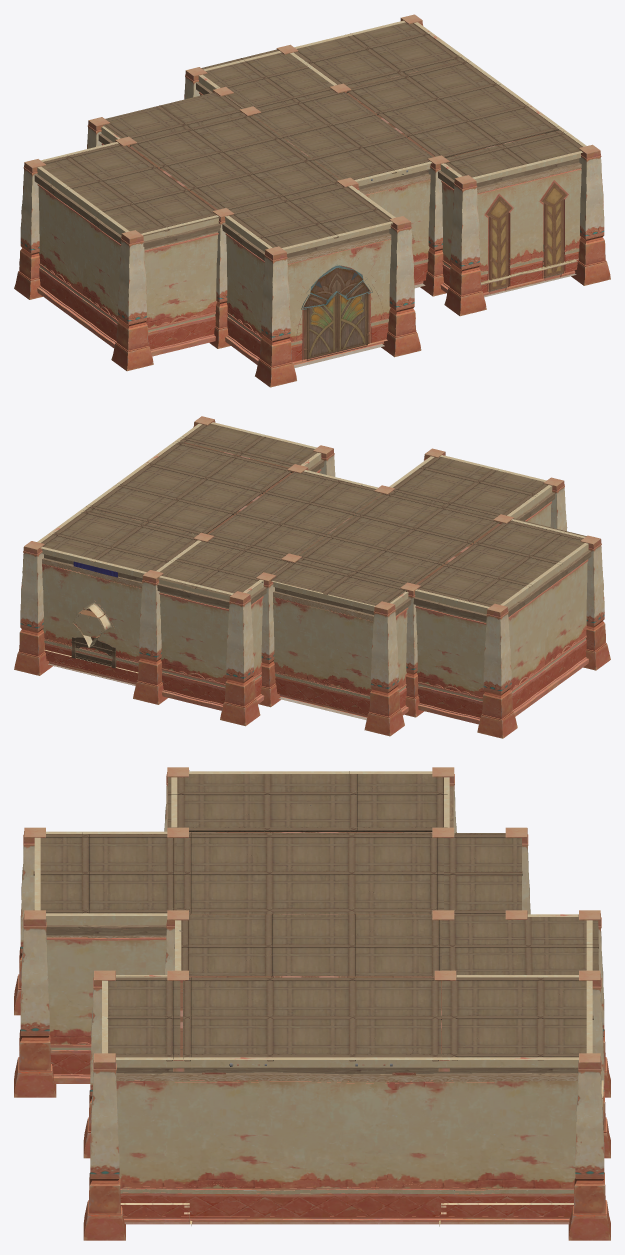
File: IndoorScene_Xm_Chunzhangjia.fbx
The picture shows the model from 3 angles, top to bottom: view 1: azimuth 30°, elevation 25°; view 2: azimuth 150°, elevation 25°; view 3: azimuth 270°, elevation 25°; orthographic projection. The views are drawn at different scales.
Visible parts, largest first — view 1: Indoor_Xm_Build_Czj_Roof_01_Vo, Indoor_Xm_Build_Czj_Column_01_Vo (×8), Indoor_Xm_Build_Czj_Wall_04_Vo (×4), Indoor_Xm_Build_Czj_Wall_01_Lod0, Indoor_Xm_Build_Czj_Wall_02_Vo (×2), Indoor_Xm_Build_Czj_Wall_03_Lod0, Indoor_Xm_Build_Czj_Wall_05_Vo, Indoor_Xm_Build_Czj_Wall_08_Vo, Indoor_Xm_Build_Czj_Base_01_Vo; view 2: Indoor_Xm_Build_Czj_Roof_01_Vo, Indoor_Xm_Build_Czj_Wall_04_Vo (×5), Indoor_Xm_Build_Czj_Column_01_Vo (×9), Indoor_Xm_Build_Czj_Wall_06_Vo, Indoor_Xm_Build_Czj_Wall_03_Lod0, Indoor_Xm_Build_Czj_Wall_05_Vo (×2), Indoor_Xm_Prop_Czj_Decoration_17_Lod0, Indoor_Xm_Build_Czj_Wall_08_Vo; view 3: Indoor_Xm_Build_Czj_Roof_01_Vo, Indoor_Xm_Build_Czj_Wall_08_Vo, Indoor_Xm_Build_Czj_Column_01_Vo (×9), Indoor_Xm_Build_Czj_Wall_04_Vo, Indoor_Xm_Build_Czj_Base_02_Vo, Indoor_Xm_Build_Czj_Base_01_Vo.
Boxes of the visible parts, x1,y1,x2,y2 form: Indoor_Xm_Build_Czj_Roof_01_Vo: (41,22,582,247); Indoor_Xm_Build_Czj_Column_01_Vo (×8): (14,144,610,387); Indoor_Xm_Build_Czj_Wall_04_Vo (×4): (34,166,272,364); Indoor_Xm_Build_Czj_Wall_01_Lod0: (282,221,392,364); Indoor_Xm_Build_Czj_Wall_02_Vo (×2): (472,151,582,294); Indoor_Xm_Build_Czj_Wall_03_Lod0: (354,161,432,285); Indoor_Xm_Build_Czj_Wall_05_Vo: (438,163,462,293); Indoor_Xm_Build_Czj_Wall_08_Vo: (414,22,586,156); Indoor_Xm_Build_Czj_Base_01_Vo: (294,273,576,367); Indoor_Xm_Build_Czj_Roof_01_Vo: (40,423,586,606); Indoor_Xm_Build_Czj_Wall_04_Vo (×5): (157,485,591,724); Indoor_Xm_Build_Czj_Column_01_Vo (×9): (14,477,610,738); Indoor_Xm_Build_Czj_Wall_06_Vo: (271,581,374,717); Indoor_Xm_Build_Czj_Wall_03_Lod0: (40,546,146,682); Indoor_Xm_Build_Czj_Wall_05_Vo (×2): (243,579,411,715); Indoor_Xm_Prop_Czj_Decoration_17_Lod0: (71,636,116,668); Indoor_Xm_Build_Czj_Wall_08_Vo: (37,423,202,542); Indoor_Xm_Build_Czj_Roof_01_Vo: (33,771,598,1061); Indoor_Xm_Build_Czj_Wall_08_Vo: (116,1057,578,1219); Indoor_Xm_Build_Czj_Column_01_Vo (×9): (14,827,610,1240); Indoor_Xm_Build_Czj_Wall_04_Vo: (46,913,167,1083); Indoor_Xm_Build_Czj_Base_02_Vo: (124,1218,569,1224); Indoor_Xm_Build_Czj_Base_01_Vo: (125,1222,568,1223).
Size of what is drawn, in the model's own units: 20.61 by 5.53 by 17.11.
